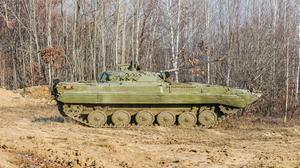bmp: (53, 64, 263, 126)
